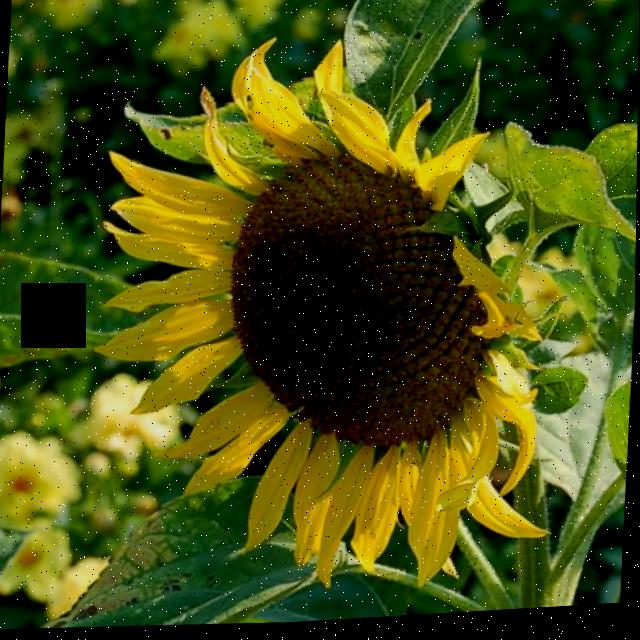sunflower: (49, 0, 624, 635)
